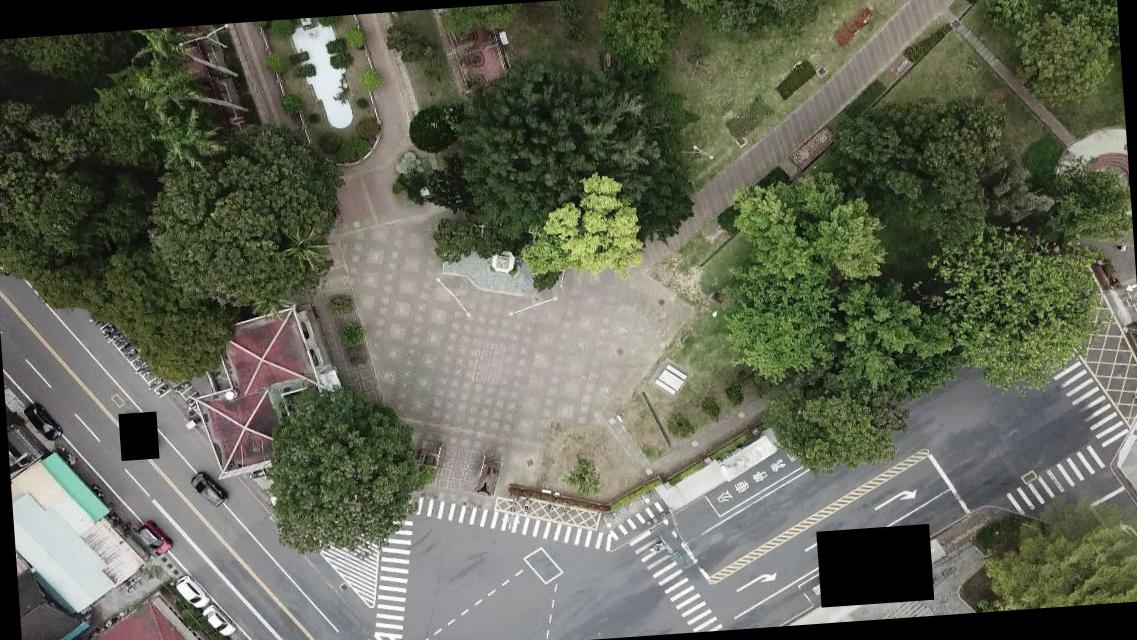vehicle: (22, 400, 62, 444), (190, 468, 228, 512), (136, 518, 173, 558), (174, 572, 208, 611), (203, 603, 235, 638)
